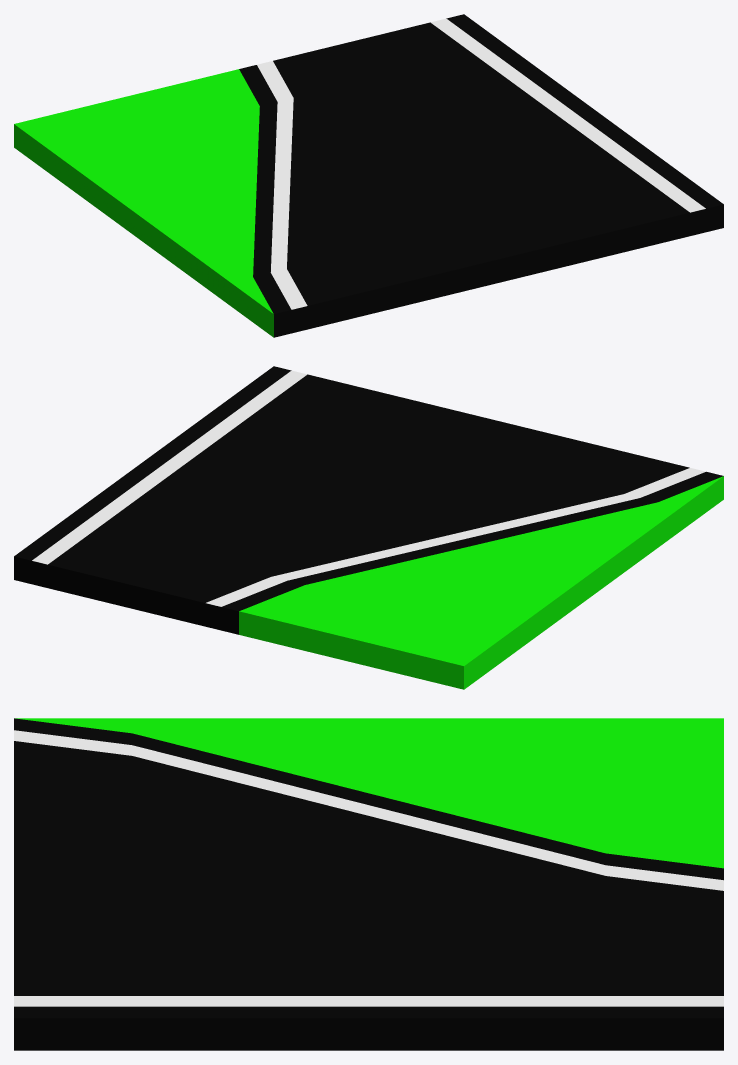
The model's file is bigtosmall2_export.fbx.
3 views of the same model, one above another, from view 1: azimuth 30°, elevation 25°; view 2: azimuth 150°, elevation 25°; view 3: azimuth 270°, elevation 25° (orthographic). The views are drawn at different scales.
Visible parts, largest first — view 1: Road, Grass; view 2: Road, Grass; view 3: Road, Grass.
Boxes of the visible parts, x1,y1,x2,y2 form: Road: [239, 14, 723, 337]; Grass: [14, 69, 273, 337]; Road: [14, 366, 723, 634]; Grass: [239, 476, 723, 689]; Road: [14, 718, 723, 1050]; Grass: [15, 718, 723, 868].
Size of what is drawn, in the model's own units: 2000 by 100 by 2000.
